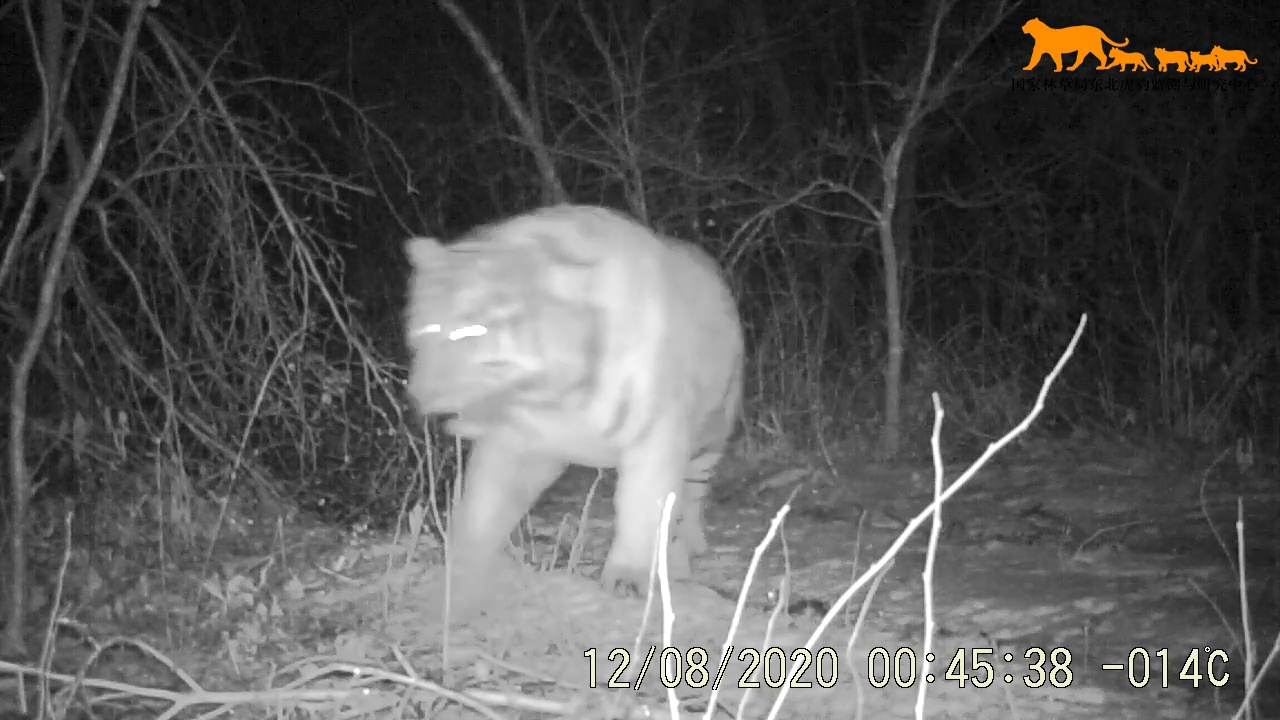Tiger: (300, 149, 835, 644)
